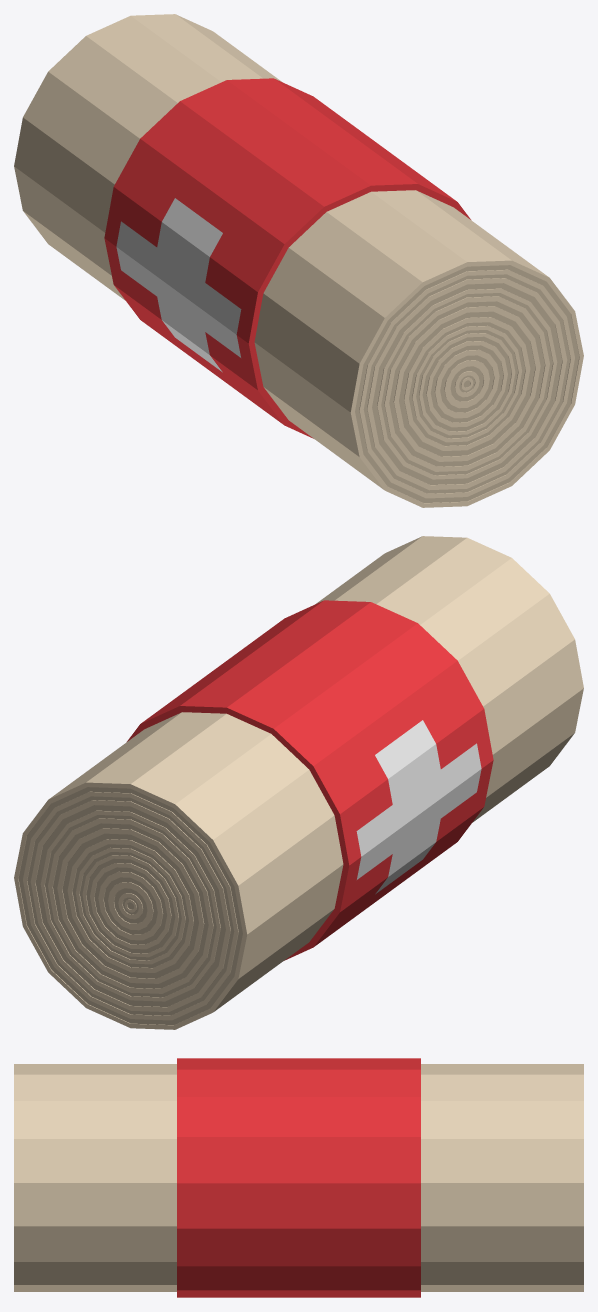
File: bandages.fbx
3 views of the same model, one above another, from view 1: azimuth 30°, elevation 25°; view 2: azimuth 150°, elevation 25°; view 3: azimuth 270°, elevation 25° (orthographic). The views are drawn at different scales.
Visible parts, largest first — view 1: Cylinder; view 2: Cylinder; view 3: Cylinder.
Part boxes in pixels (box(x1,y1,x2,y2)): Cylinder: box(14, 14, 583, 507); Cylinder: box(14, 536, 583, 1029); Cylinder: box(14, 1058, 583, 1297).
Bounding box in the file's own units: 210 × 210 × 500.
